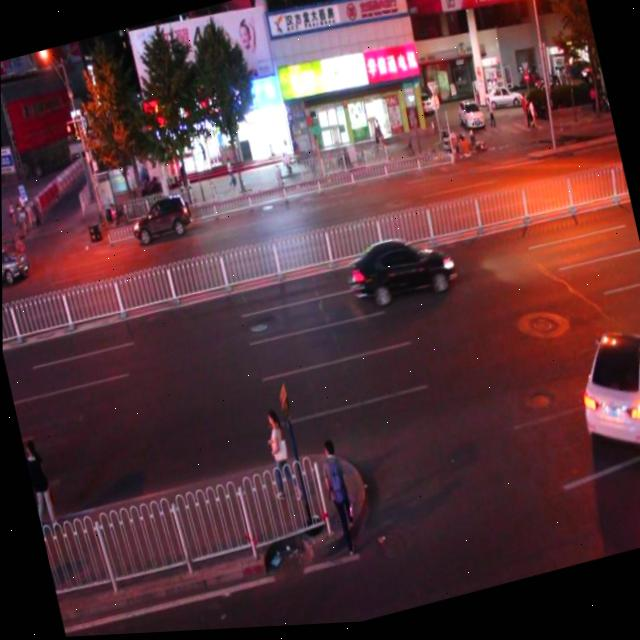car: (340, 223, 456, 319), (563, 323, 640, 467), (124, 189, 193, 247), (1, 238, 32, 291)
